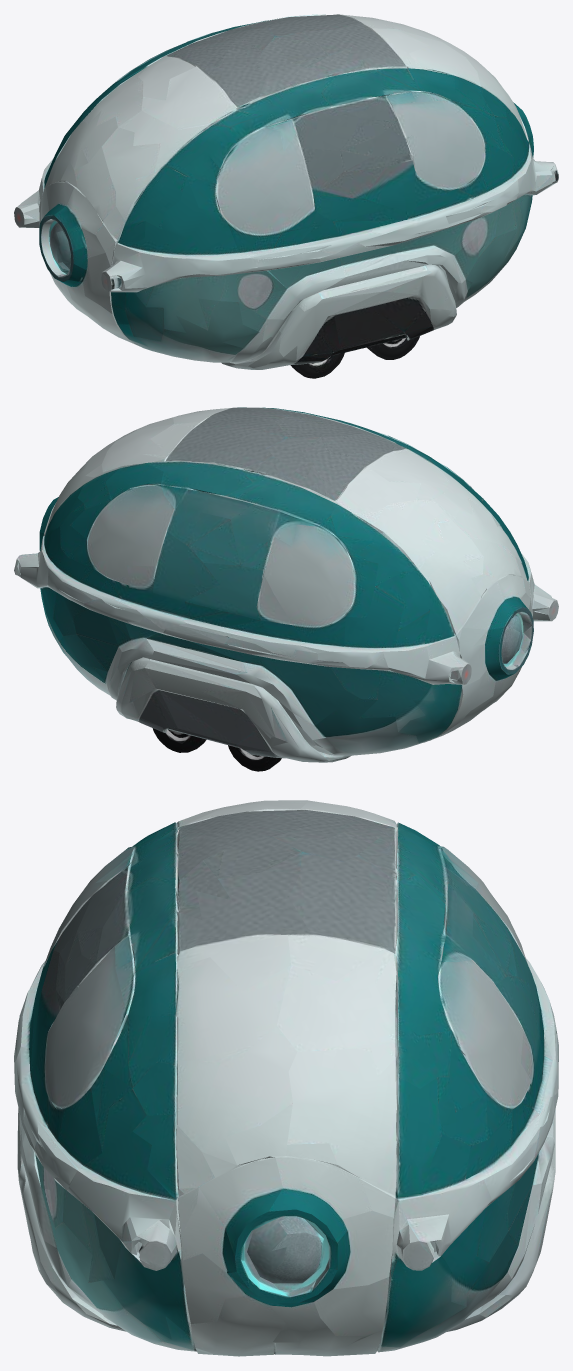
Rendered from pod.glb.
3 views of the same model, one above another, from view 1: azimuth 30°, elevation 25°; view 2: azimuth 150°, elevation 25°; view 3: azimuth 270°, elevation 25° (orthographic). The views are drawn at different scales.
Size of the model in its own units: 1.9 by 1.09 by 1.29.
1 material, 1 textured.
